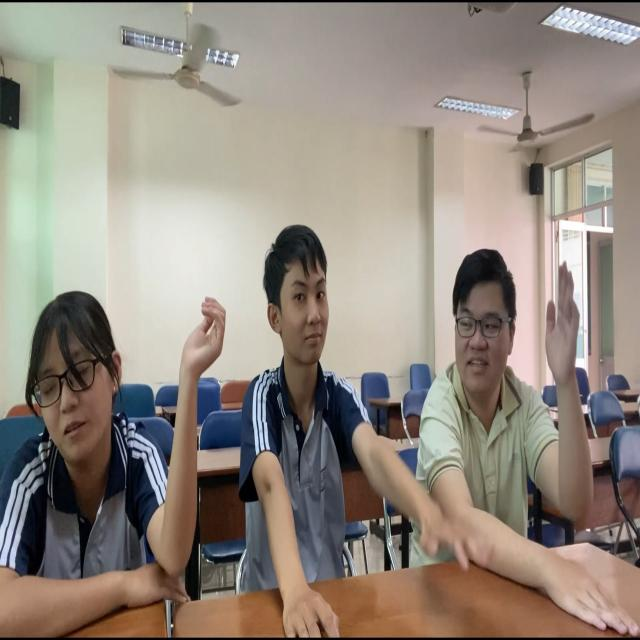raise_hand: (8, 228, 227, 640), (438, 235, 603, 561)
